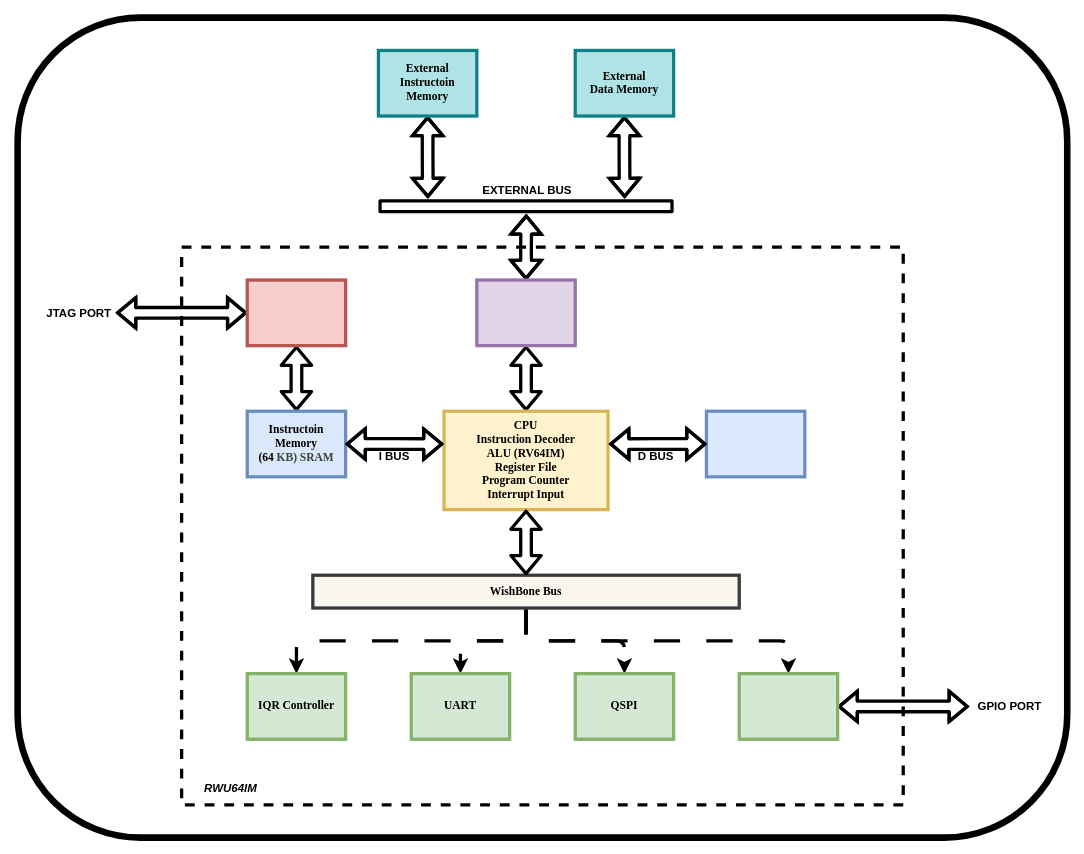
Some shapes in this 1084 by 854 pixel diagram are drawn without their labels. The shapes that lost their labels are listed below. From the top down, each one's centre as x and y in pixels, then its label:
At point 296,312: "JTAG (TAP Contoller)".
At point 525,312: "External Bus Controller".
At point 755,443: "Data Memory (64 KB) SRAM".
At point 788,706: "GPIO".
